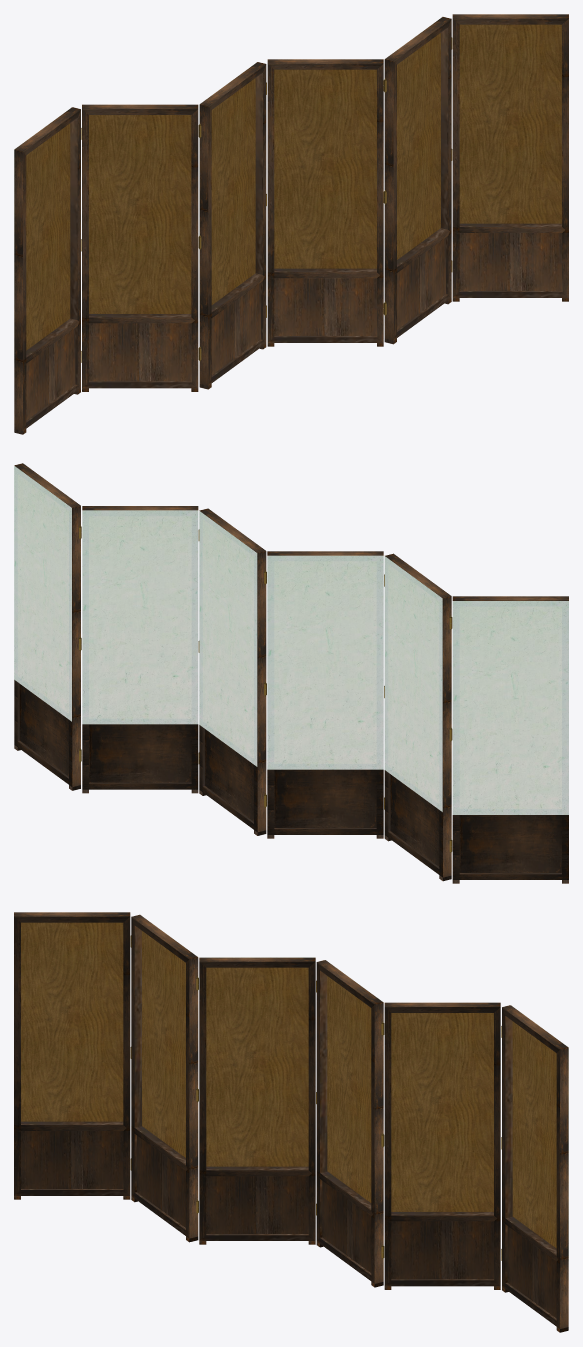
Rendered from 창호지 8.FBX.
3 views of the same model, one above another, from view 1: azimuth 30°, elevation 25°; view 2: azimuth 150°, elevation 25°; view 3: azimuth 330°, elevation 25° (orthographic).
Visible parts, largest first — view 1: 창호지 8; view 2: 창호지 8; view 3: 창호지 8.
Part boxes in pixels (bbox=[...]): 창호지 8: bbox=[14, 14, 568, 434]; 창호지 8: bbox=[14, 463, 568, 883]; 창호지 8: bbox=[14, 912, 568, 1332].
Size of the model in its own units: 145 by 70.8 by 15.22.
